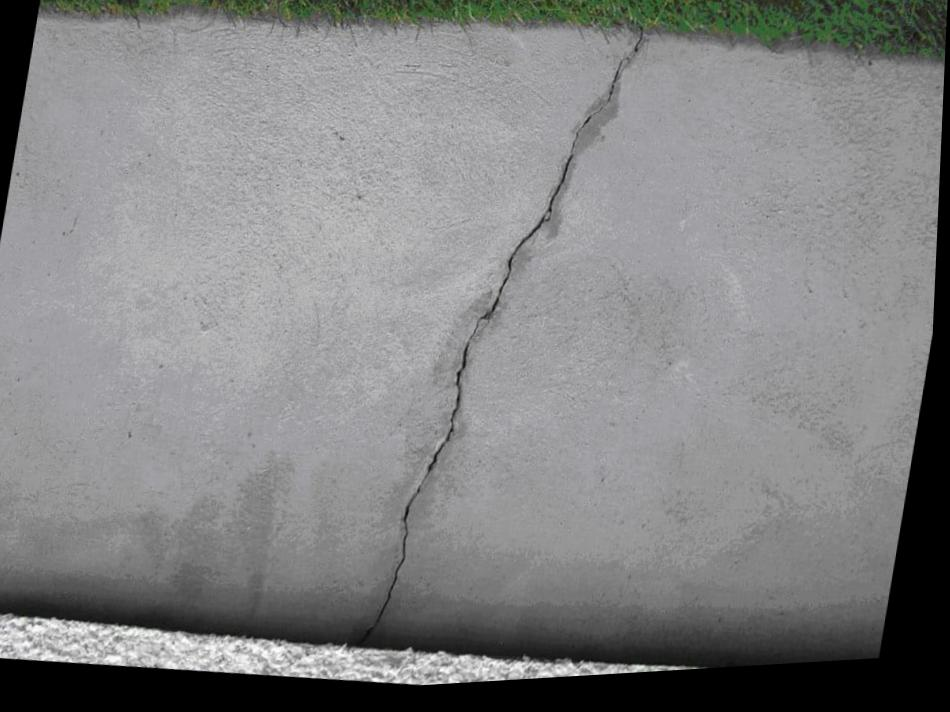crack: (365, 37, 643, 649)
